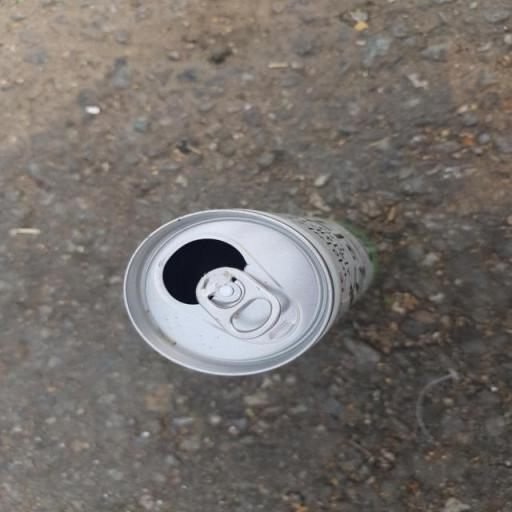metal: (104, 168, 380, 411)
